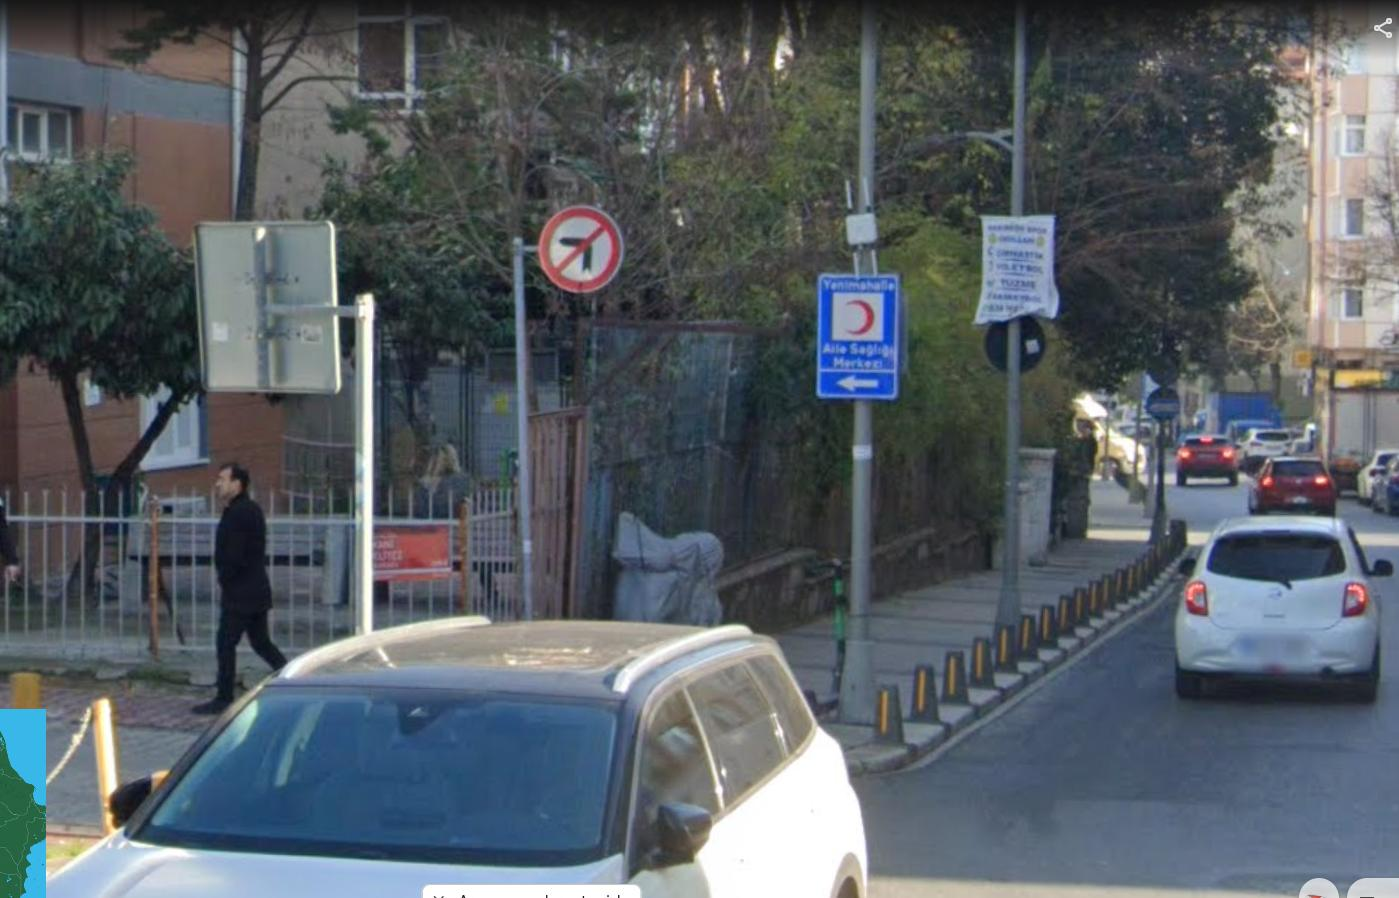leftturnsareforbidden: (536, 205, 625, 289)
